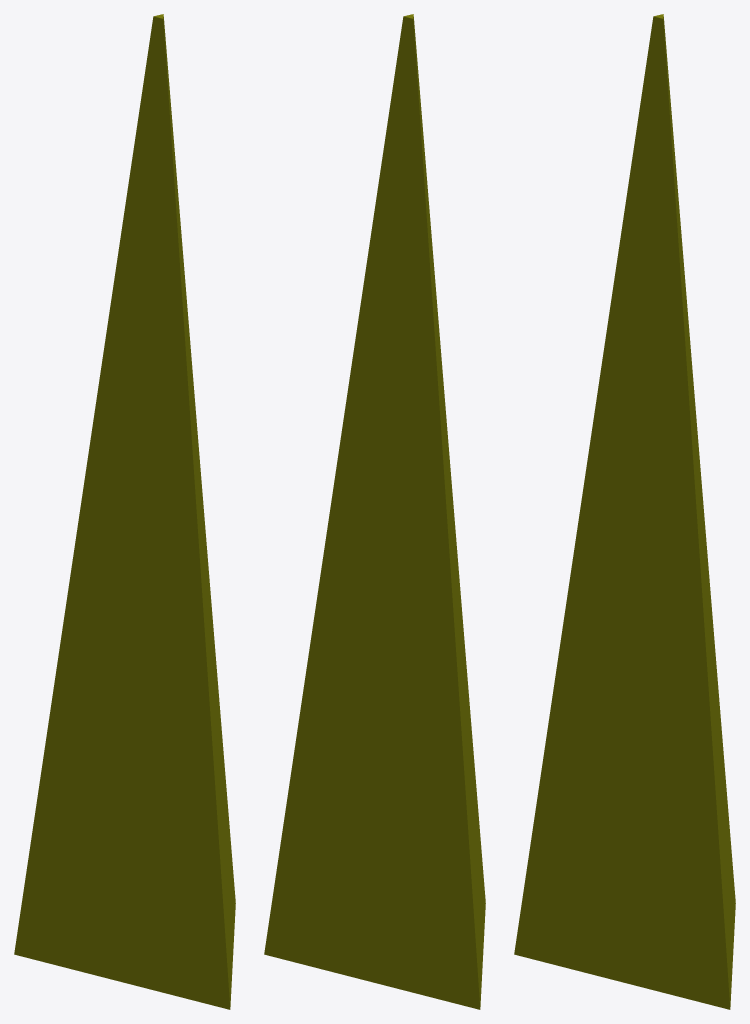
File: Herbe1.fbx
3 renders of one model, left to right at view 1: azimuth 30°, elevation 25°; view 2: azimuth 150°, elevation 25°; view 3: azimuth 270°, elevation 25°, orthographic.
Parts seen in each view (by area): view 1: Cone.001; view 2: Cone.001; view 3: Cone.001.
Boxes of the visible parts, x1,y1,x2,y2 form: Cone.001: (14, 14, 235, 1009); Cone.001: (264, 14, 485, 1009); Cone.001: (514, 14, 735, 1009).
Size of the model in its own units: 24.71 by 101 by 21.67.
